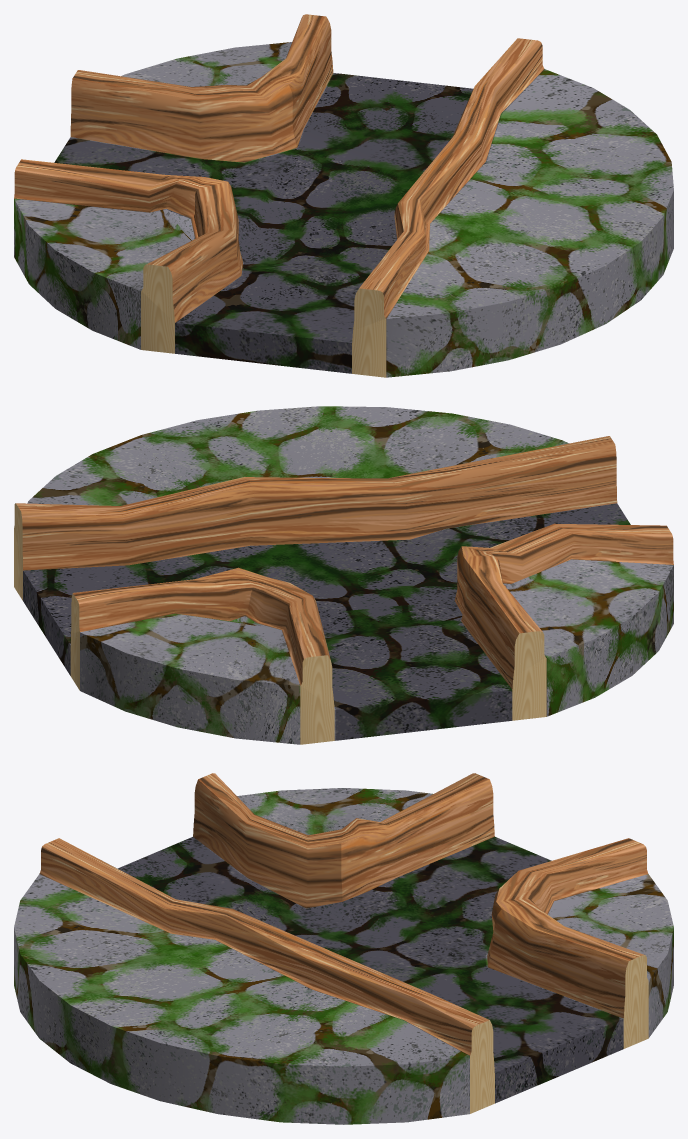
The model's file is TShapeCircle.fbx.
3 views of the same model, one above another, from view 1: azimuth 30°, elevation 25°; view 2: azimuth 150°, elevation 25°; view 3: azimuth 270°, elevation 25° (orthographic).
Parts seen in each view (by area): view 1: L_Shape_1; view 2: L_Shape_1; view 3: L_Shape_1.
Part boxes in pixels (<box>): L_Shape_1: <box>14,14,673,377</box>; L_Shape_1: <box>14,406,673,744</box>; L_Shape_1: <box>14,773,673,1124</box>.
Bounding box in the file's own units: 217 × 32.93 × 217.
